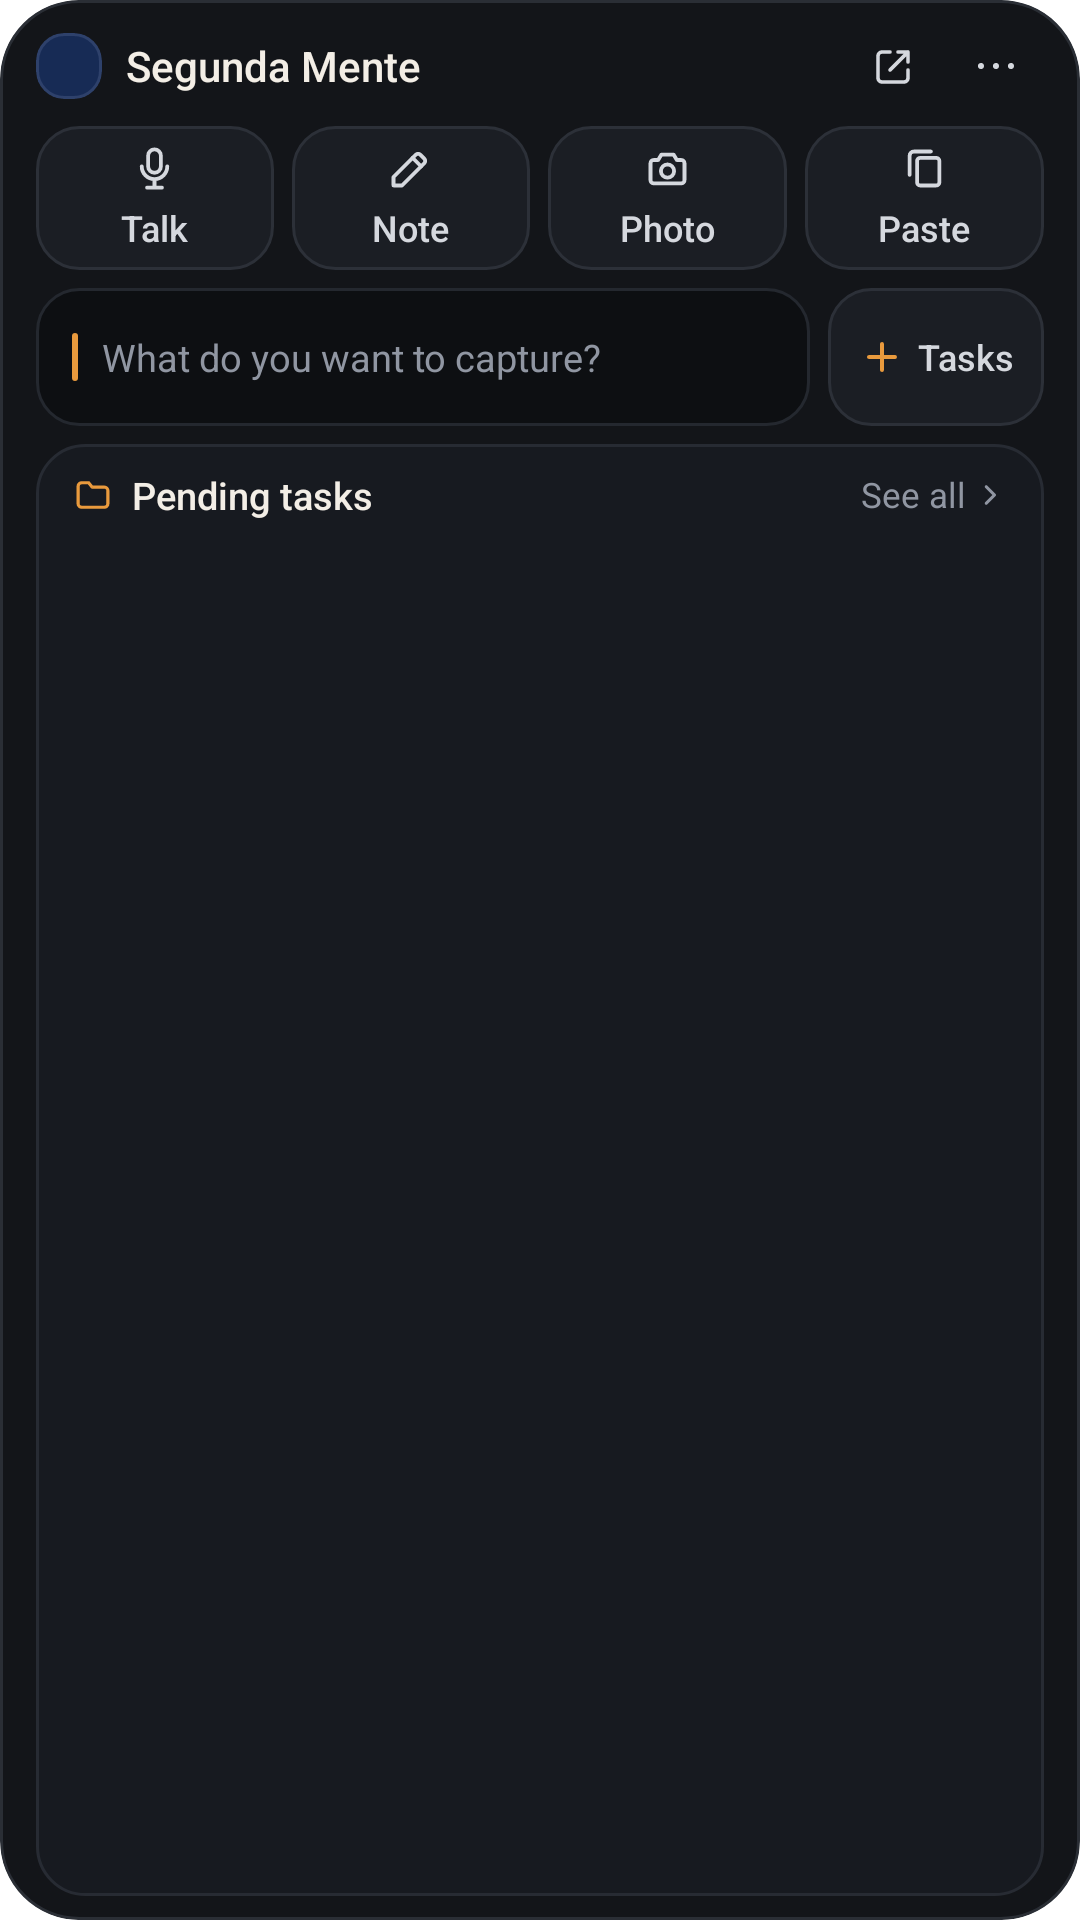

Icon bounding boxes for this 1080 × 1920 phone screenshot, format Rect(x1, y1, x2, y2):
More options: Rect(978, 63, 1014, 69)
Open Segunda Mente: Rect(876, 50, 910, 84)
widget folder amber: Rect(76, 481, 110, 509)
widget mic: Rect(140, 147, 169, 190)
widget plus: Rect(867, 342, 897, 372)
